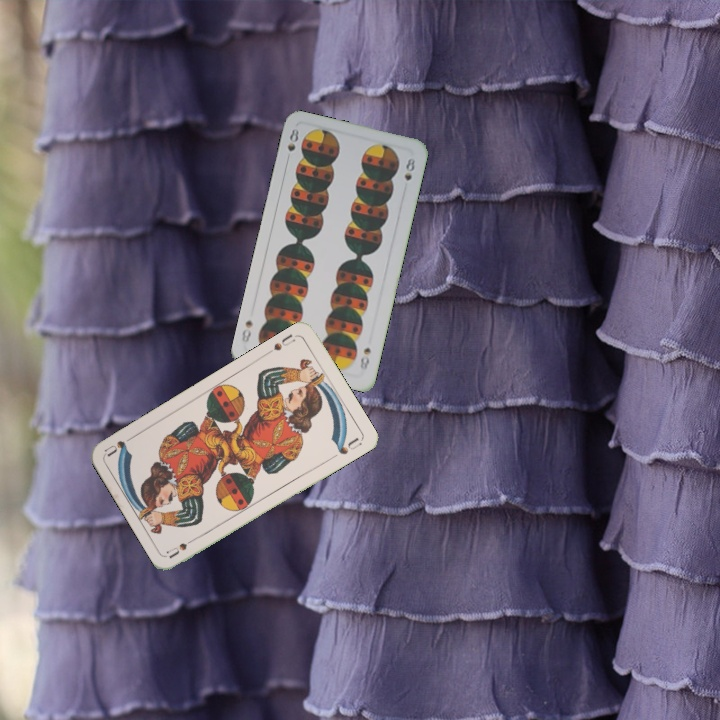S8: (283, 125, 301, 154), (356, 344, 373, 373)
SU: (163, 532, 201, 560), (269, 330, 298, 353)
